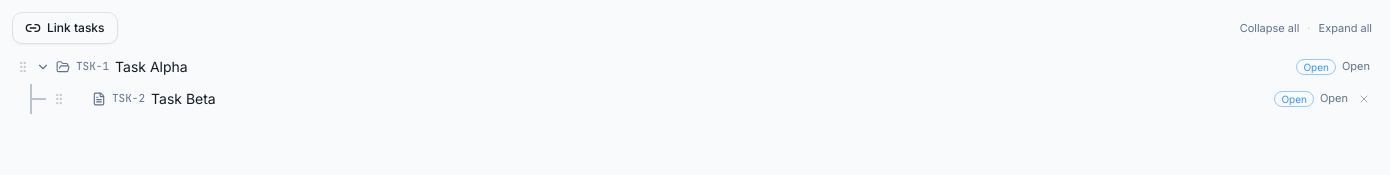
Test case: TaskTreeVisualization — drag-and-drop › touch-drag promotes a child task to root (task #477) › shows the top-level drop zone after touchstart on a non-root drag handle
The image size is (1390, 175).
Press the mouse on the button with test id "drag-handle-2" at x=59, y=99, box [52, 92, 66, 106]
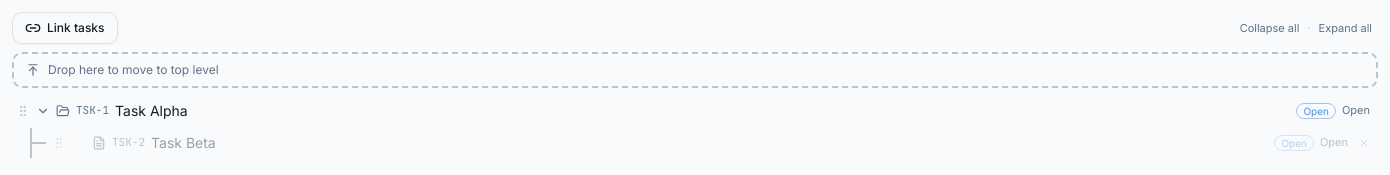
Expected: the element with test id "top-level-drop-zone" is shown, [12, 52, 1378, 88]
